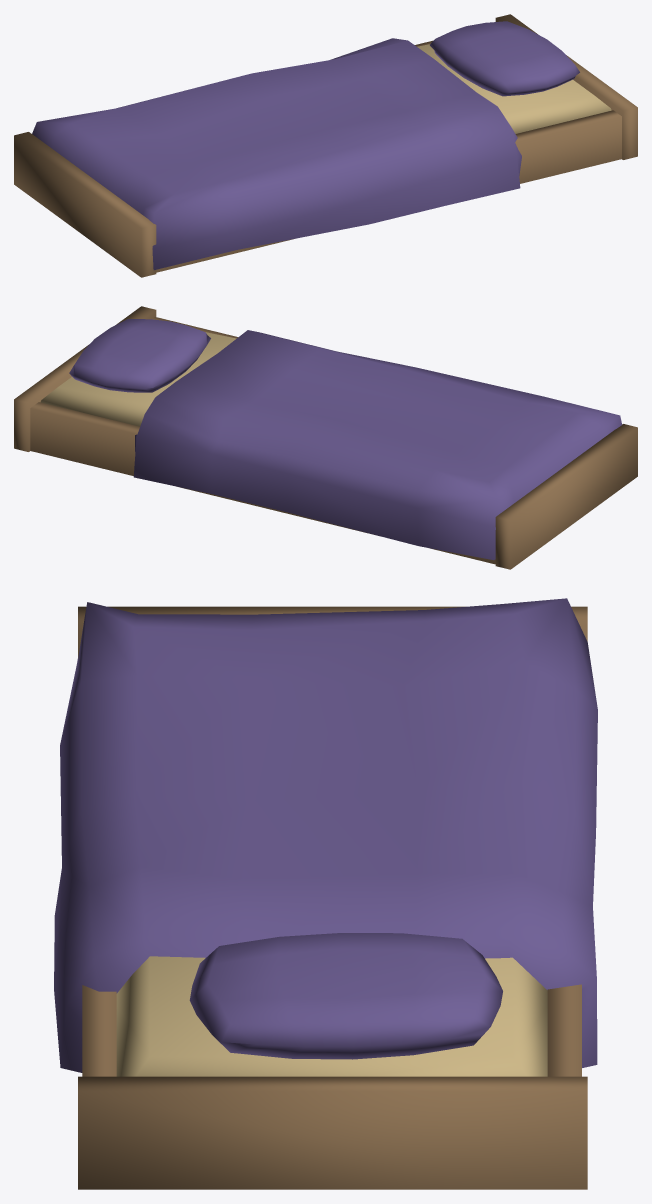
The model's file is rpgpp_ag_bed_02d.fbx.
3 views of the same model, one above another, from view 1: azimuth 30°, elevation 25°; view 2: azimuth 150°, elevation 25°; view 3: azimuth 270°, elevation 25° (orthographic). The views are drawn at different scales.
Parts seen in each view (by area): view 1: rpgpp_ag_bed_02d; view 2: rpgpp_ag_bed_02d; view 3: rpgpp_ag_bed_02d.
Boxes of the visible parts, x1=… form: rpgpp_ag_bed_02d: x1=14, y1=14, x2=637, y2=277; rpgpp_ag_bed_02d: x1=14, y1=306, x2=637, y2=569; rpgpp_ag_bed_02d: x1=54, y1=598, x2=597, y2=1189.
Bounding box in the file's own units: 2.58 × 0.3815 × 1.22.
